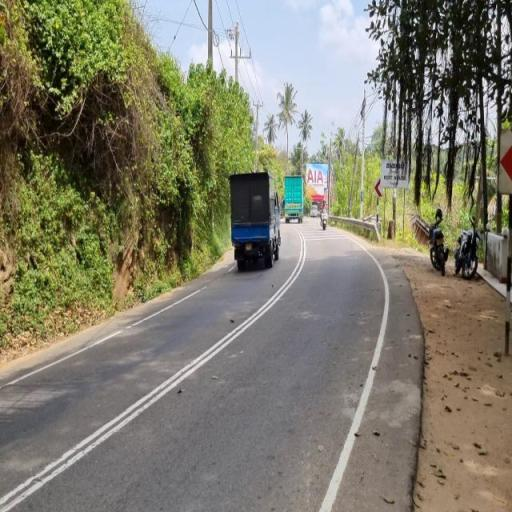double_white_line: (0, 224, 305, 512)
